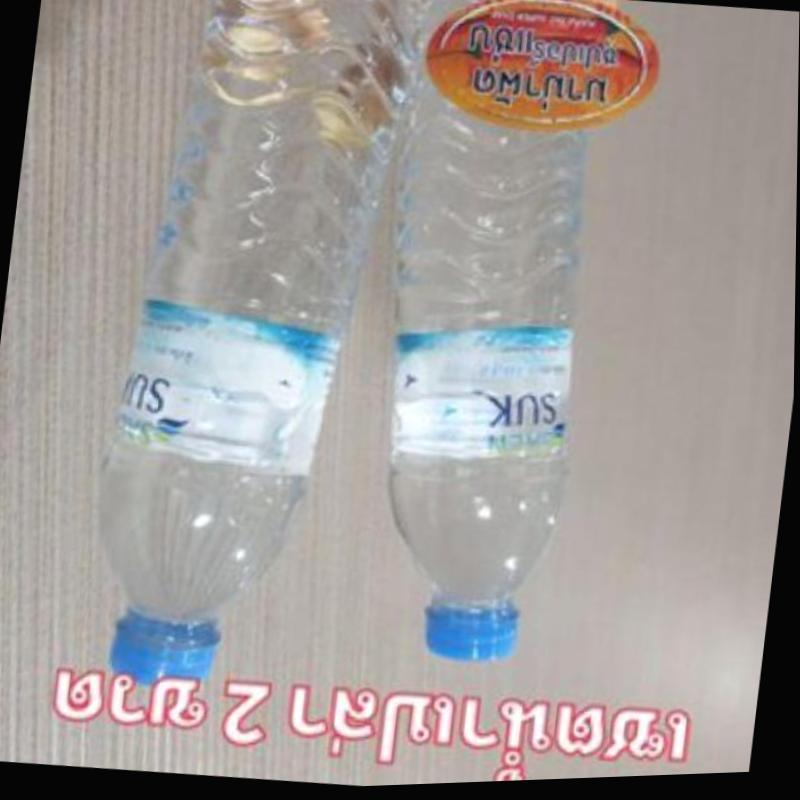botella: (74, 0, 418, 709), (336, 0, 623, 675)
